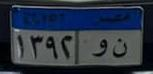1: (15, 33, 25, 59)
2: (60, 35, 73, 60)
3: (29, 33, 44, 59)
9: (44, 35, 58, 60)
noon: (111, 36, 129, 60)
waw: (91, 37, 108, 60)
